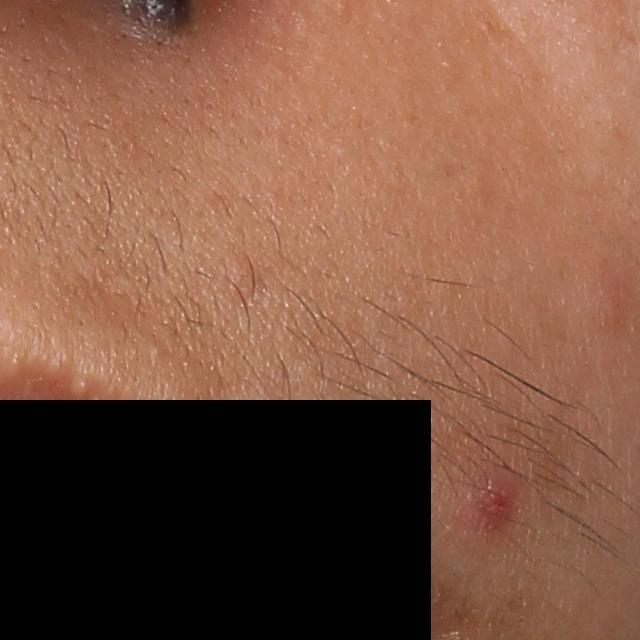papule: (465, 467, 522, 533)
